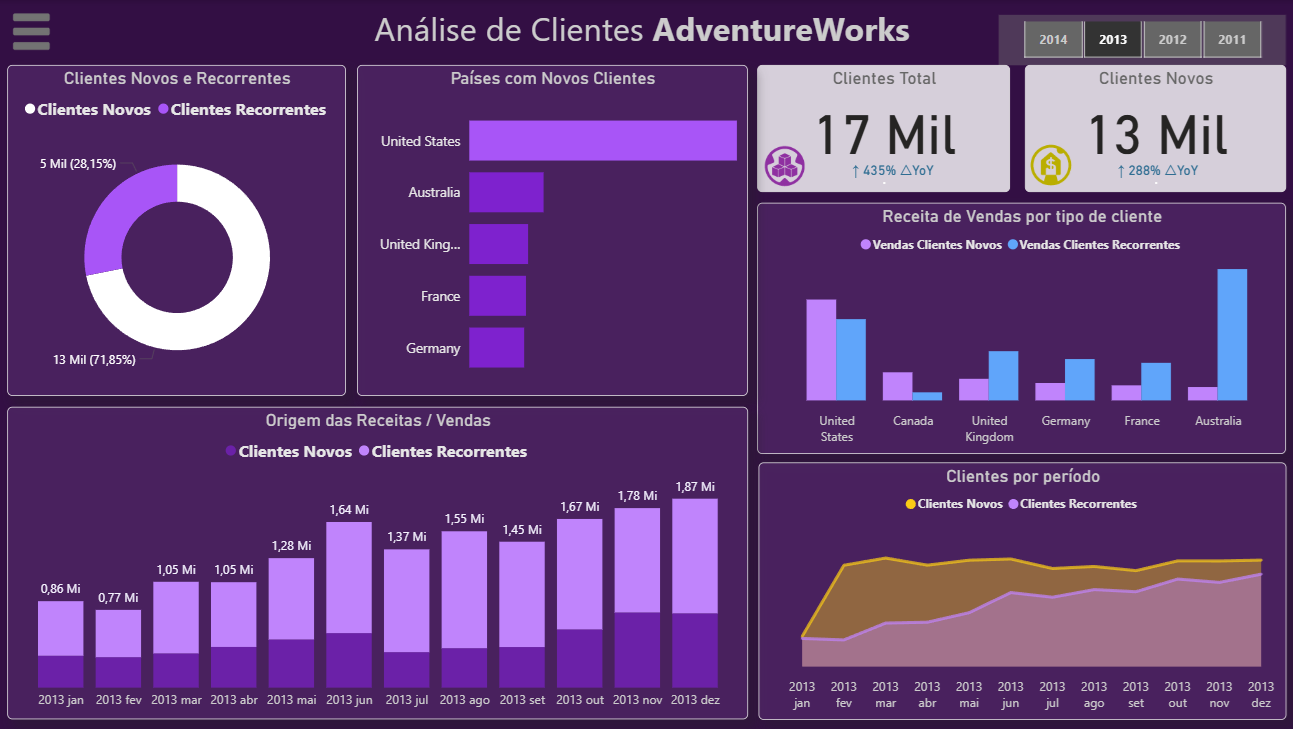

The page's visual inventory and layout, read from the dashboard file:
{"tool":"powerbi","page":{"name":"Clientes AdventureWorks","canvas":[1280,720],"ordinal":0},"visuals":[{"type":"slicer","fields":{"Values":["DimDate.CalendarYear"]},"box":[997.4,7.3,282.9,49.6],"z":0},{"type":"clusteredColumnChart","title":"Receita de Vendas por tipo de cliente","fields":{"Category":["DimGeography.EnglishCountryRegionName"],"Y":["#Measures.Vendas Clientes Novos","#Measures.Vendas Clientes Recorrentes"]},"box":[748.2,199.1,520.9,247.3],"z":1000},{"type":"card","title":"Clientes Novos","fields":{"Values":["#Measures.Clientes Novos"]},"box":[1011.8,63.6,257.3,125.5],"z":2000},{"type":"card","title":"Clientes Total","fields":{"Values":["#Measures.Clientes"]},"box":[748.2,63.6,249.1,125.5],"z":3000},{"type":"card","fields":{"Values":["#Measures.Clientes Novos LY Delta % txt"]},"box":[1062.3,149,159.6,39.9],"z":4000},{"type":"card","fields":{"Values":["#Measures.Clientes LY Delta % txt"]},"box":[799.8,149,162.3,39.9],"z":5000},{"type":"donutChart","title":"Clientes Novos e Recorrentes","fields":{"Y":["#Measures.Clientes Novos","#Measures.Clientes - novos"]},"box":[9.1,63.6,333.6,326.4],"z":6000},{"type":"clusteredBarChart","title":"Países com Novos Clientes","fields":{"Y":["#Measures.Clientes Novos"],"Category":["DimGeography.EnglishCountryRegionName"]},"box":[353.6,63.6,384.5,326.4],"z":7000},{"type":"columnChart","title":"Origem das Receitas / Vendas","fields":{"Category":["DimDate.YearMonthDesc"],"Y":["#Measures.Vendas Clientes Novos","#Measures.Vendas Clientes Recorrentes"]},"box":[8.9,400.8,729.8,307.7],"z":8000},{"type":"areaChart","title":"Clientes por período","fields":{"Category":["DimDate.YearMonthDesc"],"Y":["#Measures.Clientes Novos","#Measures.Clientes Recorrentes"]},"box":[749.1,455.5,520,253.6],"z":9000},{"type":"textbox","box":[344,0,579.9,63.8],"z":10000},{"type":"image","box":[749.1,138.2,50.9,50],"z":11000},{"type":"image","box":[1011.8,137.3,50.9,50.9],"z":12000},{"type":"image","box":[8.9,7.1,47,49.7],"z":13000},{"type":"actionButton","box":[0,0,63,63.8],"z":14000}]}

Visuals, with their boxes in screenshot pixels (x1, y1, x2, y2), scaled from the page's 1280x720 canvas onto the 1293x729 screenshot:
slicer - DimDate.CalendarYear: 1008 7 1292 58
"Receita de Vendas por tipo de cliente" clusteredColumnChart: 756 202 1282 452
"Clientes Novos" card: 1022 64 1282 191
"Clientes Total" card: 756 64 1007 191
card - #Measures.Clientes Novos LY Delta % txt: 1073 151 1234 191
card - #Measures.Clientes LY Delta % txt: 808 151 972 191
"Clientes Novos e Recorrentes" donutChart: 9 64 346 395
"Países com Novos Clientes" clusteredBarChart: 357 64 746 395
"Origem das Receitas / Vendas" columnChart: 9 406 746 717
"Clientes por período" areaChart: 757 461 1282 718
textbox: 347 0 933 65
image: 757 140 808 191
image: 1022 139 1073 191
image: 9 7 56 58
actionButton: 0 0 64 65
